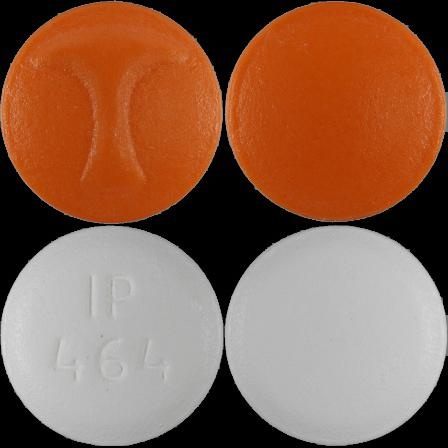33261-153: (0, 0, 224, 224)
